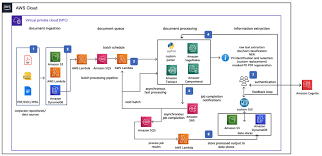lambda: (178, 134, 189, 144), (117, 54, 127, 64), (77, 54, 86, 64), (51, 67, 60, 77)
s3: (49, 52, 60, 62), (227, 115, 236, 124)
sagemaker: (188, 43, 198, 54)
sqs: (141, 116, 151, 127), (97, 54, 107, 63)
